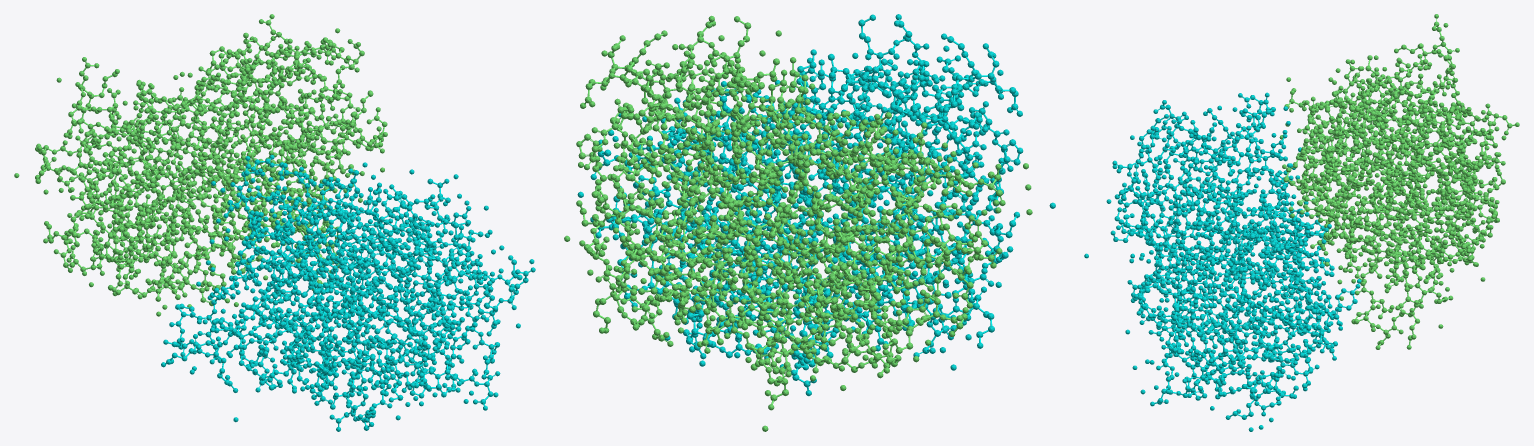
The model's file is 1gfl__ball_and_stick__chain.glb.
The picture shows the model from 3 angles, left to right: view 1: azimuth 30°, elevation 25°; view 2: azimuth 150°, elevation 25°; view 3: azimuth 270°, elevation 25°; orthographic projection. The views are drawn at different scales.
Visible parts, largest first — view 1: Renderer Node; view 2: Renderer Node; view 3: Renderer Node.
Boxes of the visible parts, x1=… form: Renderer Node: x1=14, y1=14, x2=535, y2=431; Renderer Node: x1=564, y1=14, x2=1055, y2=431; Renderer Node: x1=1084, y1=14, x2=1519, y2=431.
Bounding box in the file's own units: 61.93 × 54.35 × 67.59.
